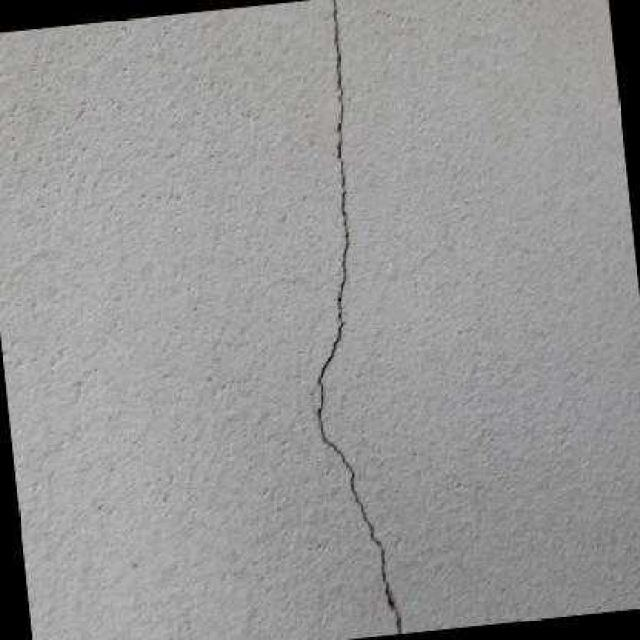D00: (314, 0, 401, 634)
